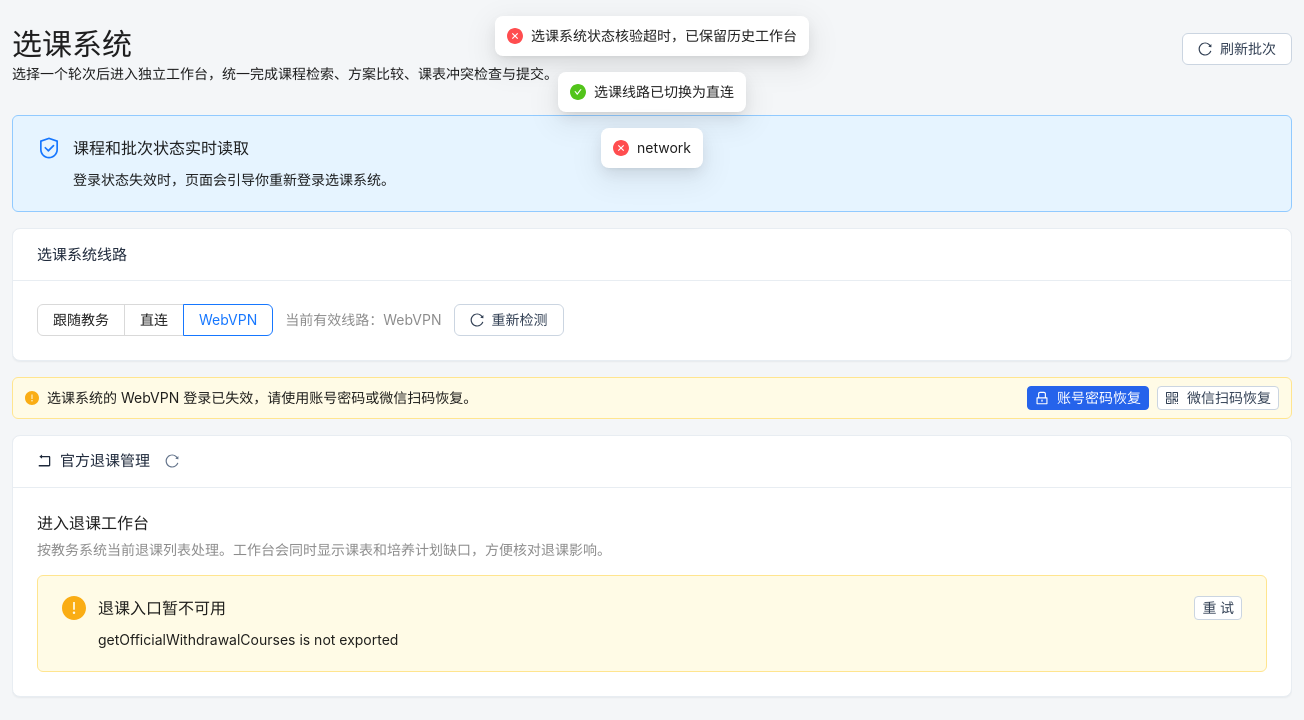
it: CourseSelectionPage mobile recovery notice › blocks batch refresh while the route preference is being saved
Click the radio button labelled "直连" at (154, 320), box [124,304,184,336]
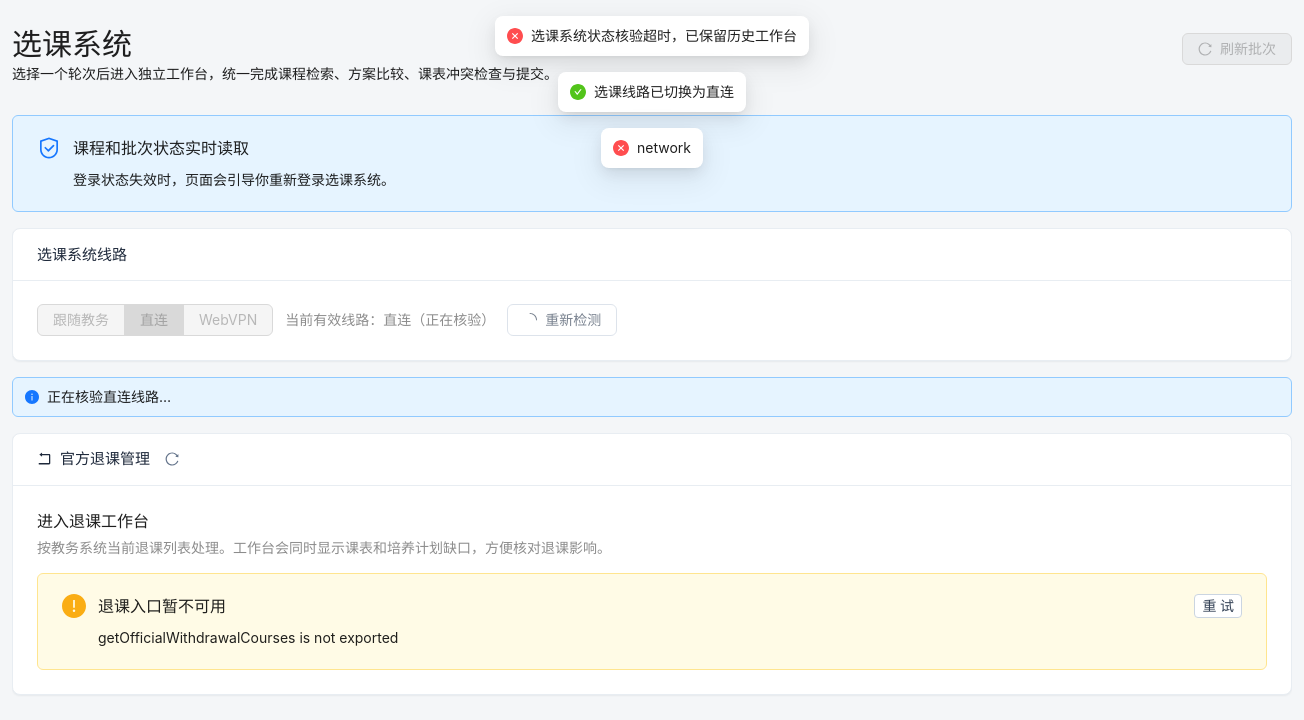
expect the button "刷新批次" is disabled: met
Click the button "刷新批次" at (1237, 49), box [1182,33,1292,65]
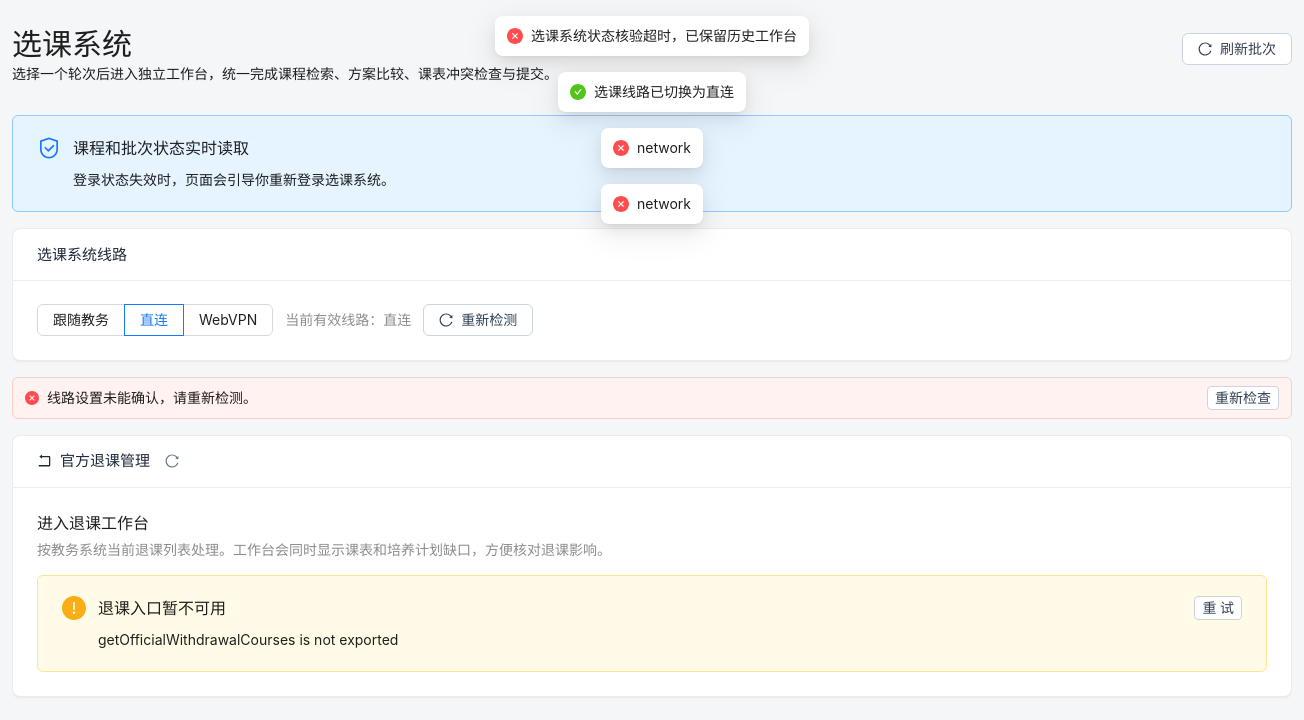
expect the button "刷新批次" is enabled: met, box [1182,33,1292,65]
